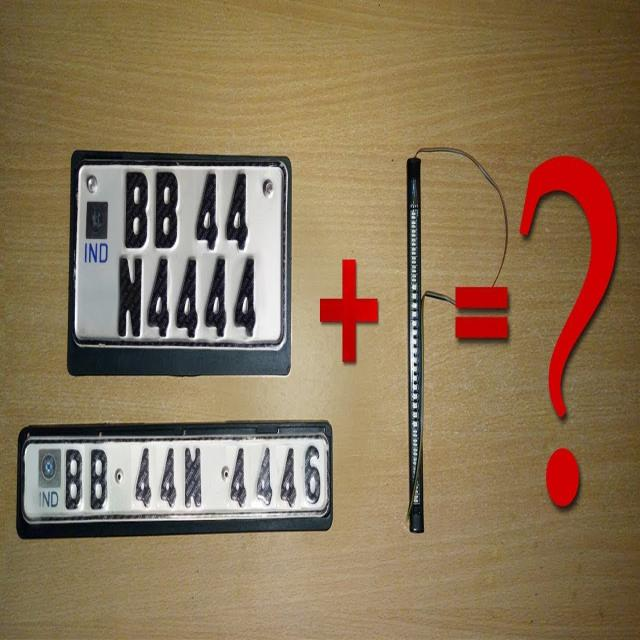plate: (75, 154, 287, 352), (22, 434, 331, 521)
